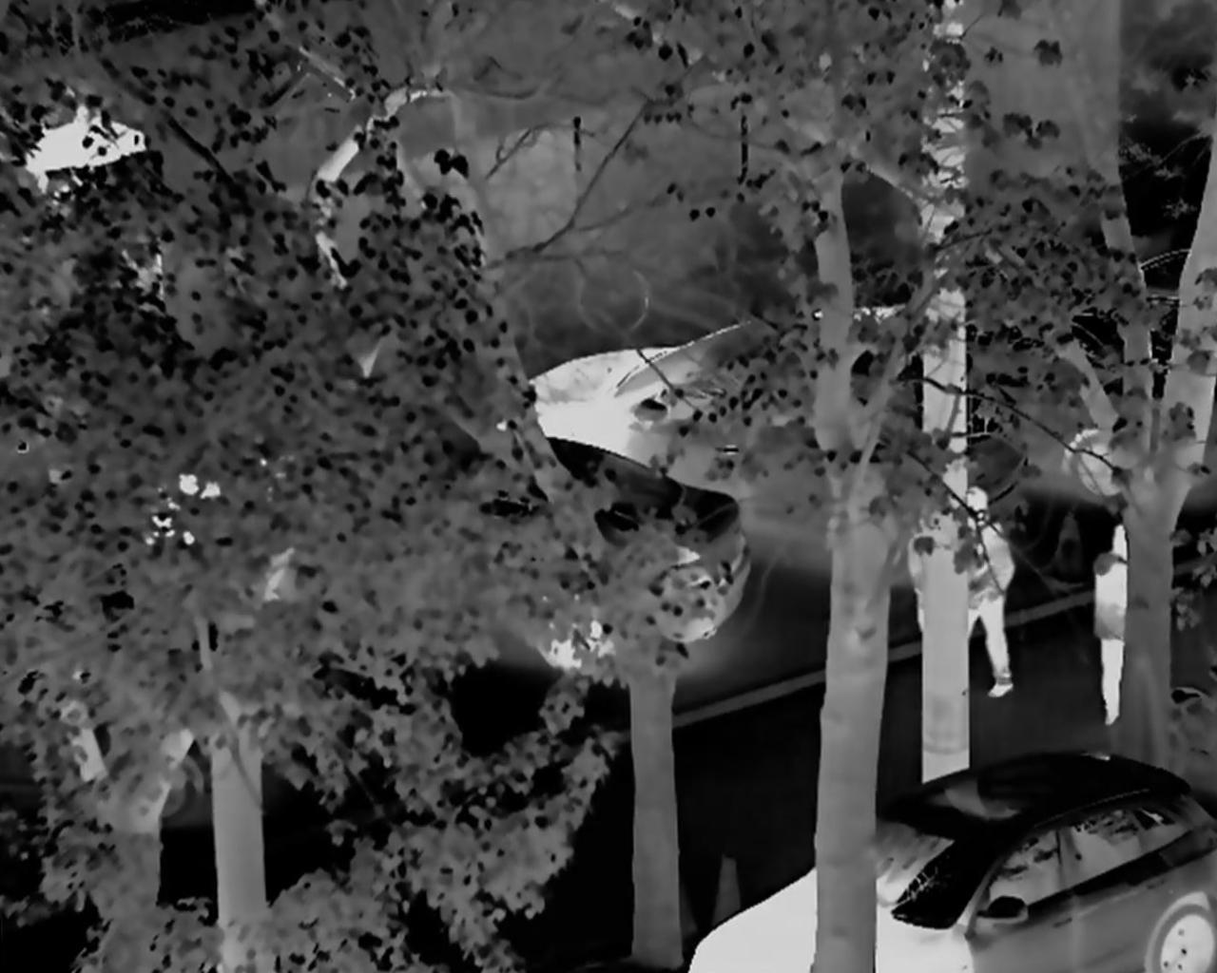person: (950, 486, 1025, 695), (1091, 523, 1147, 727)
